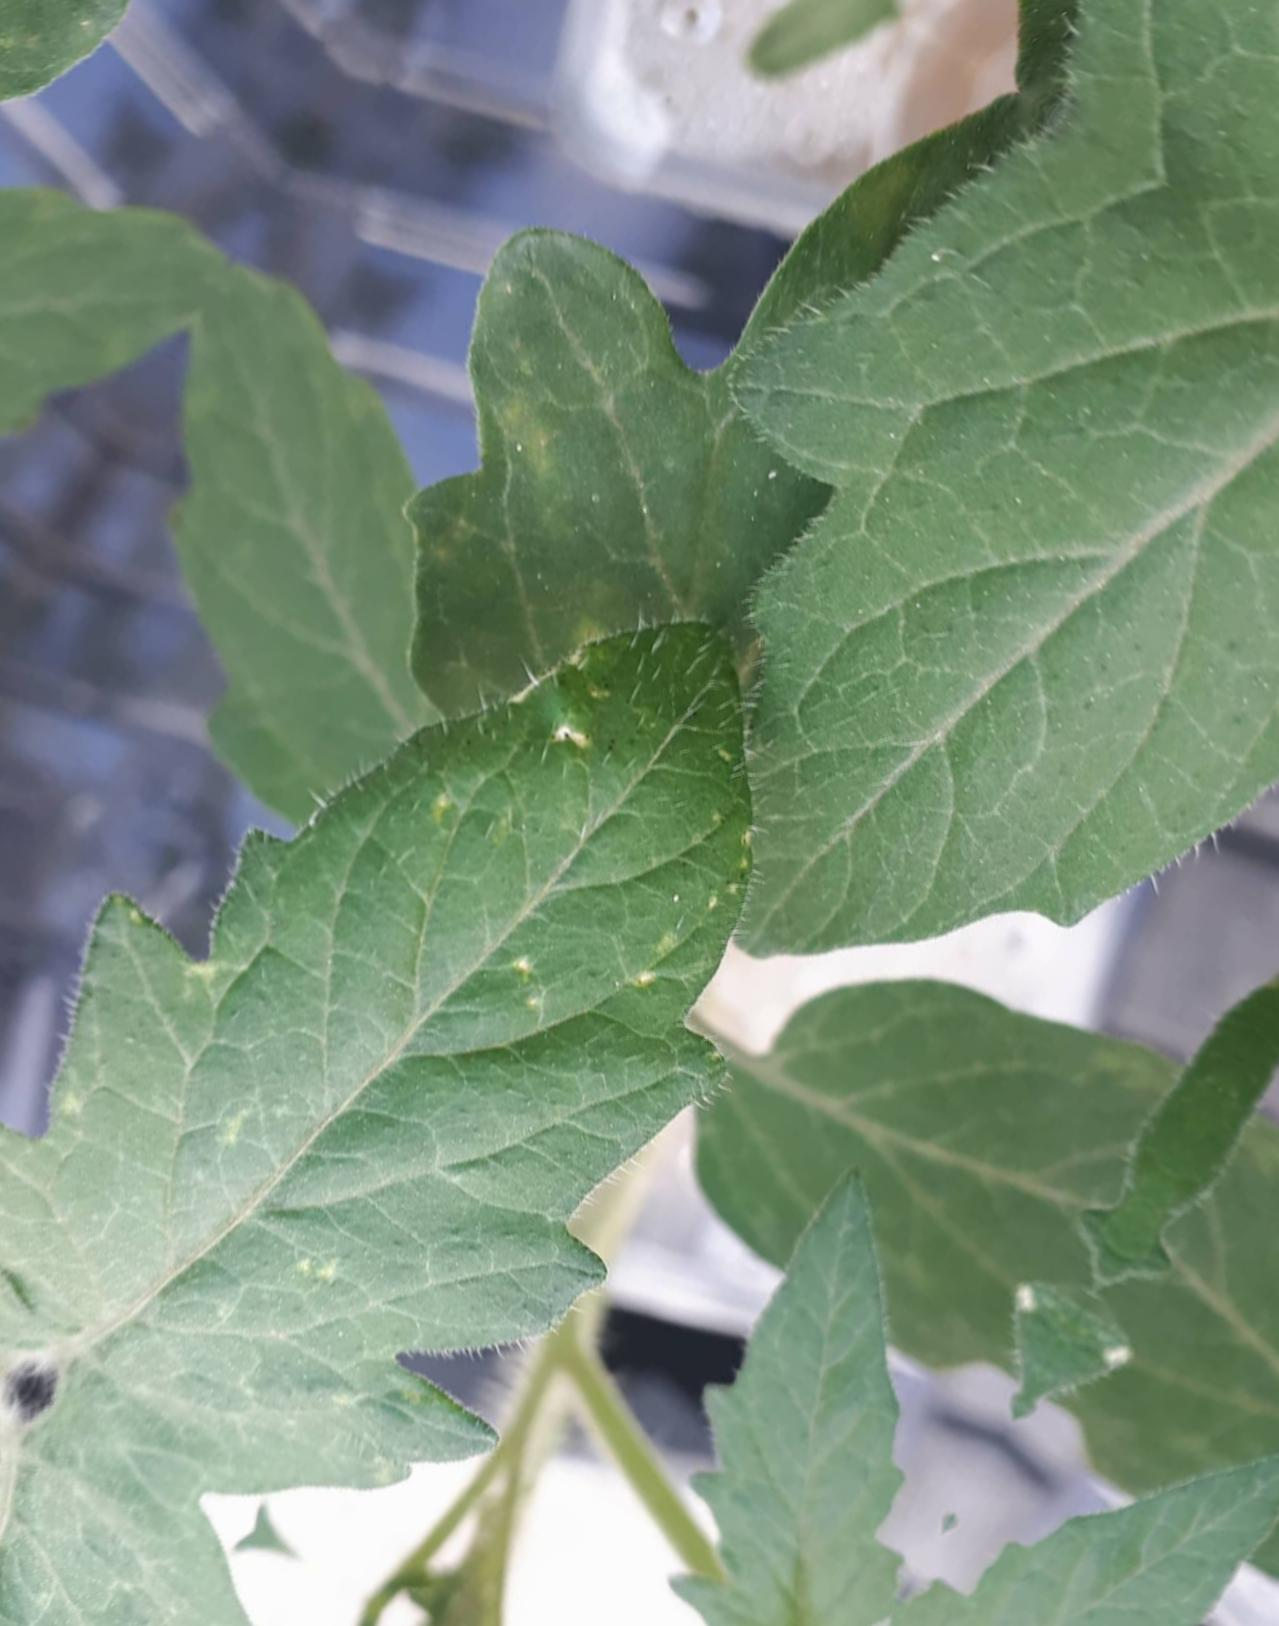Tomato mold leaf: (0, 424, 956, 1626), (458, 44, 1279, 1237)
